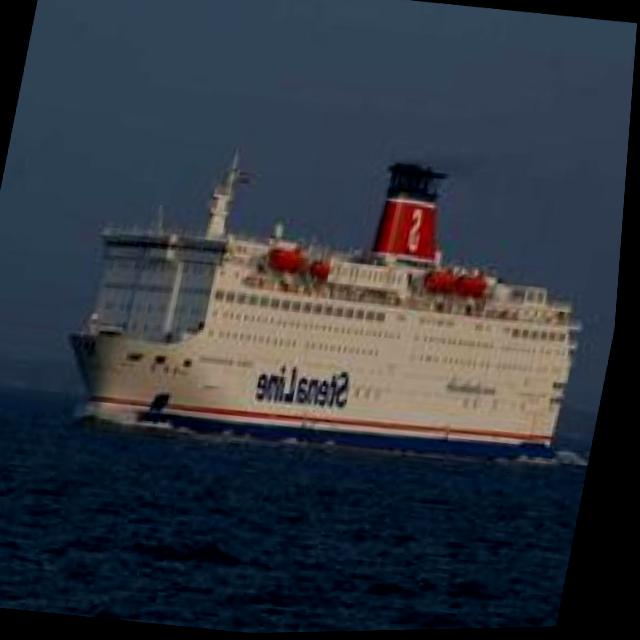ship2: (69, 151, 581, 470)
